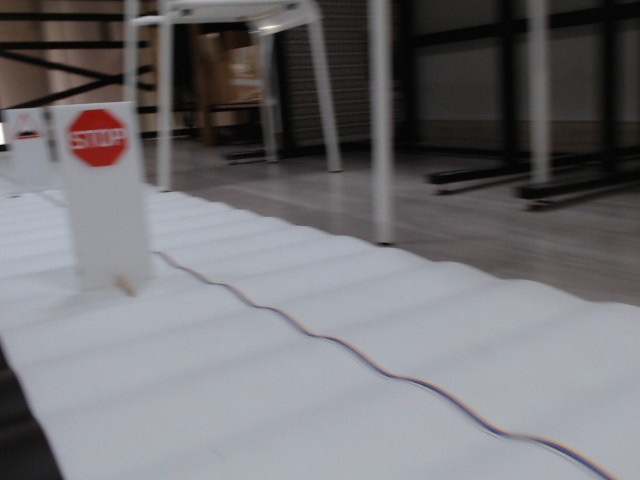Stop: (66, 108, 128, 168)
